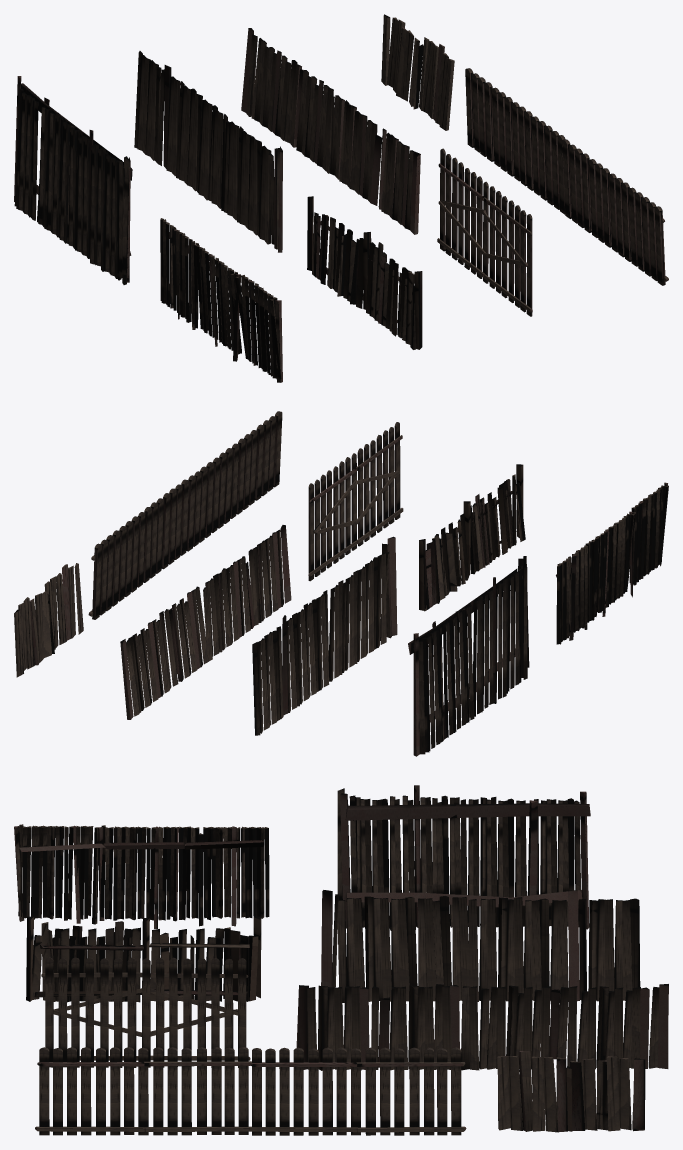
3 renders of one model, top to bottom at view 1: azimuth 30°, elevation 25°; view 2: azimuth 150°, elevation 25°; view 3: azimuth 270°, elevation 25°, orthographic. The views are drawn at different scales.
Parts seen in each view (by area): view 1: SM_Old_Wooden_Planks_2_LOD0, SM_Old_Wooden_Planks_1_LOD0, SM_Old_Wooden_Planks_3_LOD0, SM_Old_Wooden_Planks_4_LOD0, SM_Old_Wooden_Planks_5_LOD0, SM_Old_Wooden_Planks_7_LOD0, SM_Old_Wooden_Planks_6_LOD0, SM_Old_Wooden_Planks_8_LOD0; view 2: SM_Old_Wooden_Planks_2_LOD0, SM_Old_Wooden_Planks_4_LOD0, SM_Old_Wooden_Planks_3_LOD0, SM_Old_Wooden_Planks_1_LOD0, SM_Old_Wooden_Planks_7_LOD0, SM_Old_Wooden_Planks_5_LOD0, SM_Old_Wooden_Planks_6_LOD0, SM_Old_Wooden_Planks_8_LOD0; view 3: SM_Old_Wooden_Planks_2_LOD0, SM_Old_Wooden_Planks_3_LOD0, SM_Old_Wooden_Planks_4_LOD0, SM_Old_Wooden_Planks_1_LOD0, SM_Old_Wooden_Planks_5_LOD0, SM_Old_Wooden_Planks_7_LOD0, SM_Old_Wooden_Planks_6_LOD0, SM_Old_Wooden_Planks_8_LOD0.
Part boxes in pixels (x1,y1,x2,y2): SM_Old_Wooden_Planks_2_LOD0: [465, 68, 668, 285]; SM_Old_Wooden_Planks_1_LOD0: [241, 28, 420, 234]; SM_Old_Wooden_Planks_3_LOD0: [134, 51, 282, 252]; SM_Old_Wooden_Planks_4_LOD0: [14, 76, 132, 284]; SM_Old_Wooden_Planks_5_LOD0: [160, 218, 282, 382]; SM_Old_Wooden_Planks_7_LOD0: [437, 148, 532, 316]; SM_Old_Wooden_Planks_6_LOD0: [307, 196, 422, 349]; SM_Old_Wooden_Planks_8_LOD0: [381, 14, 454, 130]; SM_Old_Wooden_Planks_2_LOD0: [88, 411, 282, 619]; SM_Old_Wooden_Planks_4_LOD0: [408, 556, 529, 756]; SM_Old_Wooden_Planks_3_LOD0: [252, 536, 397, 735]; SM_Old_Wooden_Planks_1_LOD0: [120, 525, 291, 719]; SM_Old_Wooden_Planks_7_LOD0: [308, 422, 403, 581]; SM_Old_Wooden_Planks_5_LOD0: [556, 482, 668, 644]; SM_Old_Wooden_Planks_6_LOD0: [419, 464, 525, 611]; SM_Old_Wooden_Planks_8_LOD0: [14, 563, 83, 677]; SM_Old_Wooden_Planks_2_LOD0: [35, 1047, 466, 1135]; SM_Old_Wooden_Planks_3_LOD0: [321, 890, 640, 1002]; SM_Old_Wooden_Planks_4_LOD0: [337, 785, 590, 930]; SM_Old_Wooden_Planks_1_LOD0: [296, 984, 668, 1070]; SM_Old_Wooden_Planks_5_LOD0: [14, 824, 269, 928]; SM_Old_Wooden_Planks_7_LOD0: [41, 957, 250, 1067]; SM_Old_Wooden_Planks_6_LOD0: [26, 916, 261, 1002]; SM_Old_Wooden_Planks_8_LOD0: [497, 1051, 645, 1132].
Size of the model in its own units: 3.17 by 0.9848 by 4.05.
Materials: 1 (1 with a texture image).
